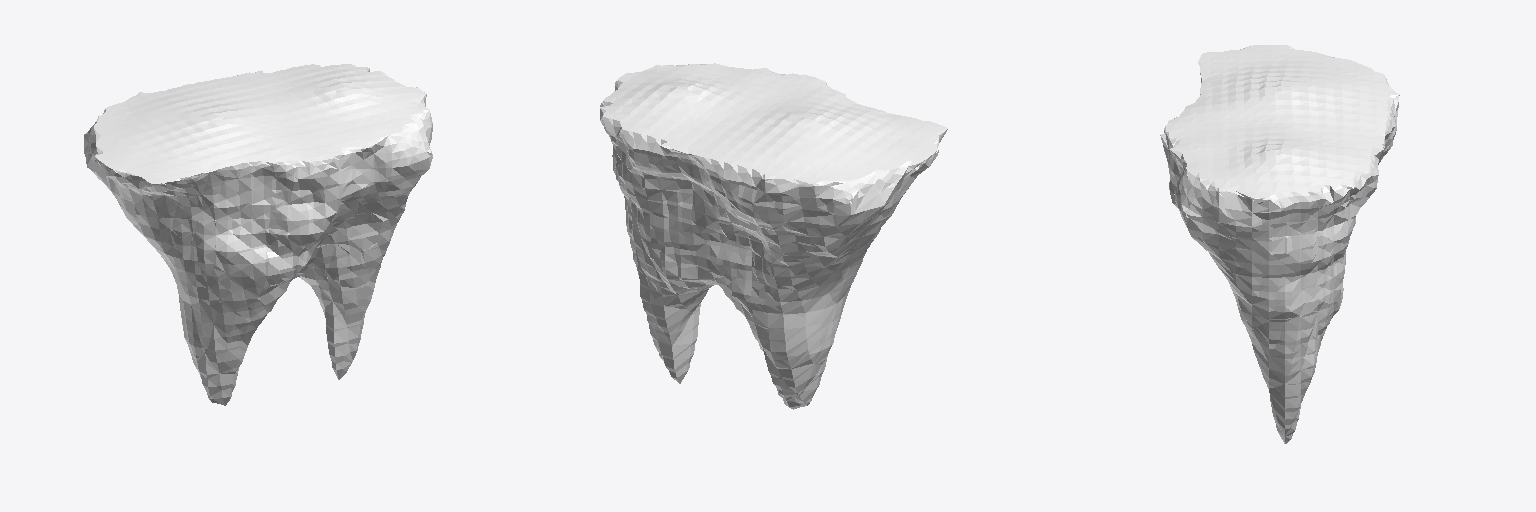
The model's file is IslandLarge.obj.
3 views of the same model, side by side, from view 1: azimuth 30°, elevation 25°; view 2: azimuth 150°, elevation 25°; view 3: azimuth 270°, elevation 25° (orthographic).
Parts seen in each view (by area): view 1: Island_Large; view 2: Island_Large; view 3: Island_Large.
Part boxes in pixels (x1,y1,x2,y2): Island_Large: (84,64,432,405); Island_Large: (600,63,947,409); Island_Large: (1160,45,1399,443).
Bounding box in the file's own units: 22.24 × 19.85 × 14.63.